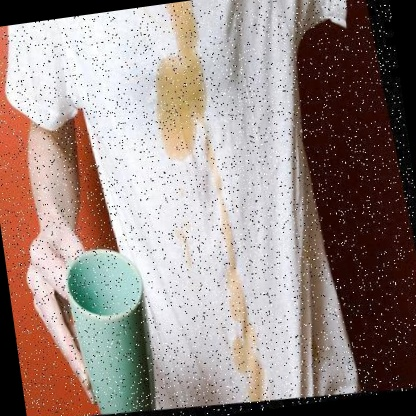coffee: (148, 50, 216, 162), (215, 203, 247, 321), (224, 324, 268, 400), (170, 0, 199, 48)
